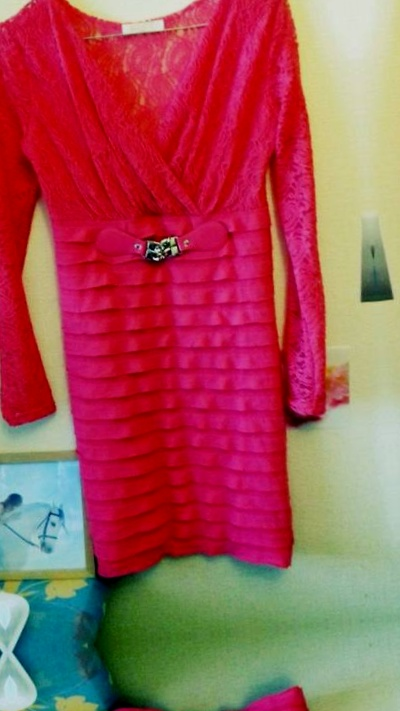Dress: (0, 0, 387, 626), (24, 645, 400, 711), (365, 0, 400, 590), (0, 680, 50, 711)
